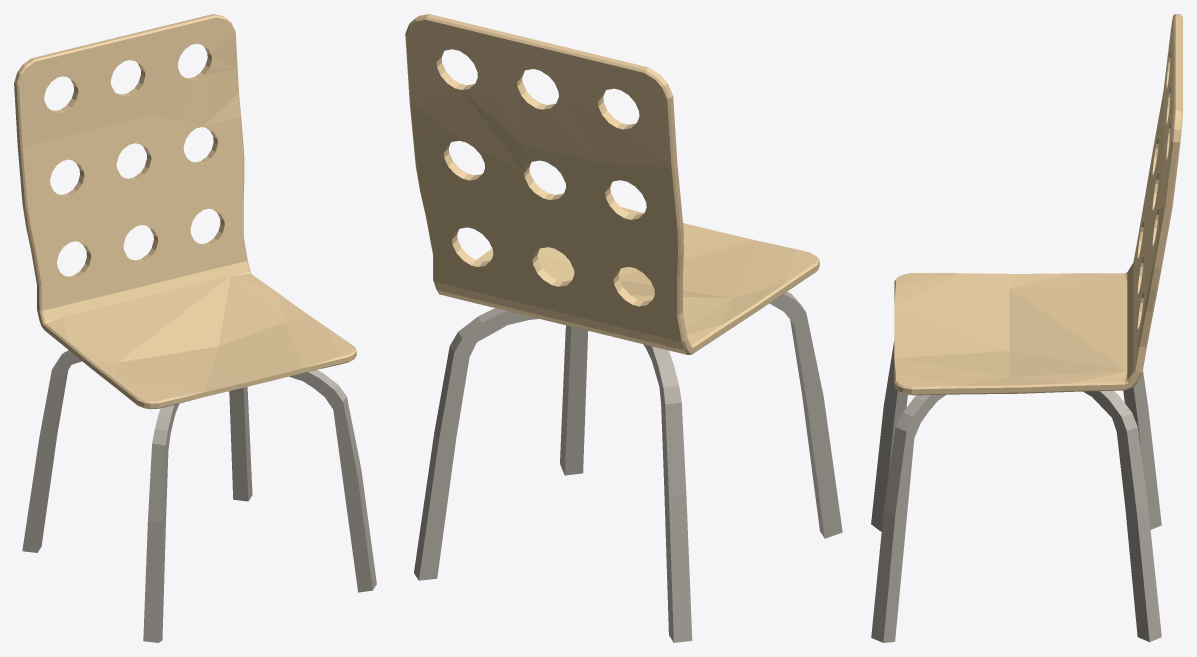
The model's file is Chair.glb.
The picture shows the model from 3 angles, left to right: view 1: azimuth 30°, elevation 25°; view 2: azimuth 150°, elevation 25°; view 3: azimuth 270°, elevation 25°; orthographic projection. The views are drawn at different scales.
Visible parts, largest first — view 1: Node; view 2: Node; view 3: Node.
Boxes of the visible parts, left/top/right/bottom form: Node: left=14, top=14, right=376, bottom=642; Node: left=405, top=14, right=842, bottom=642; Node: left=871, top=14, right=1182, bottom=642.
Size of the model in its own units: 19.73 by 38.76 by 20.99.
